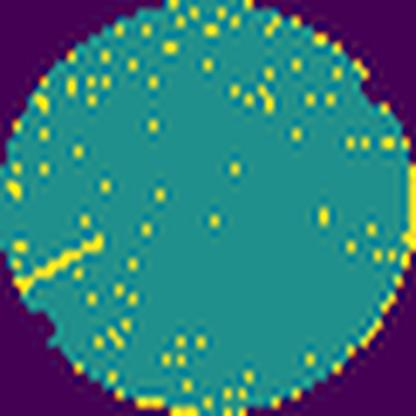Scratch: (13, 228, 114, 301)
